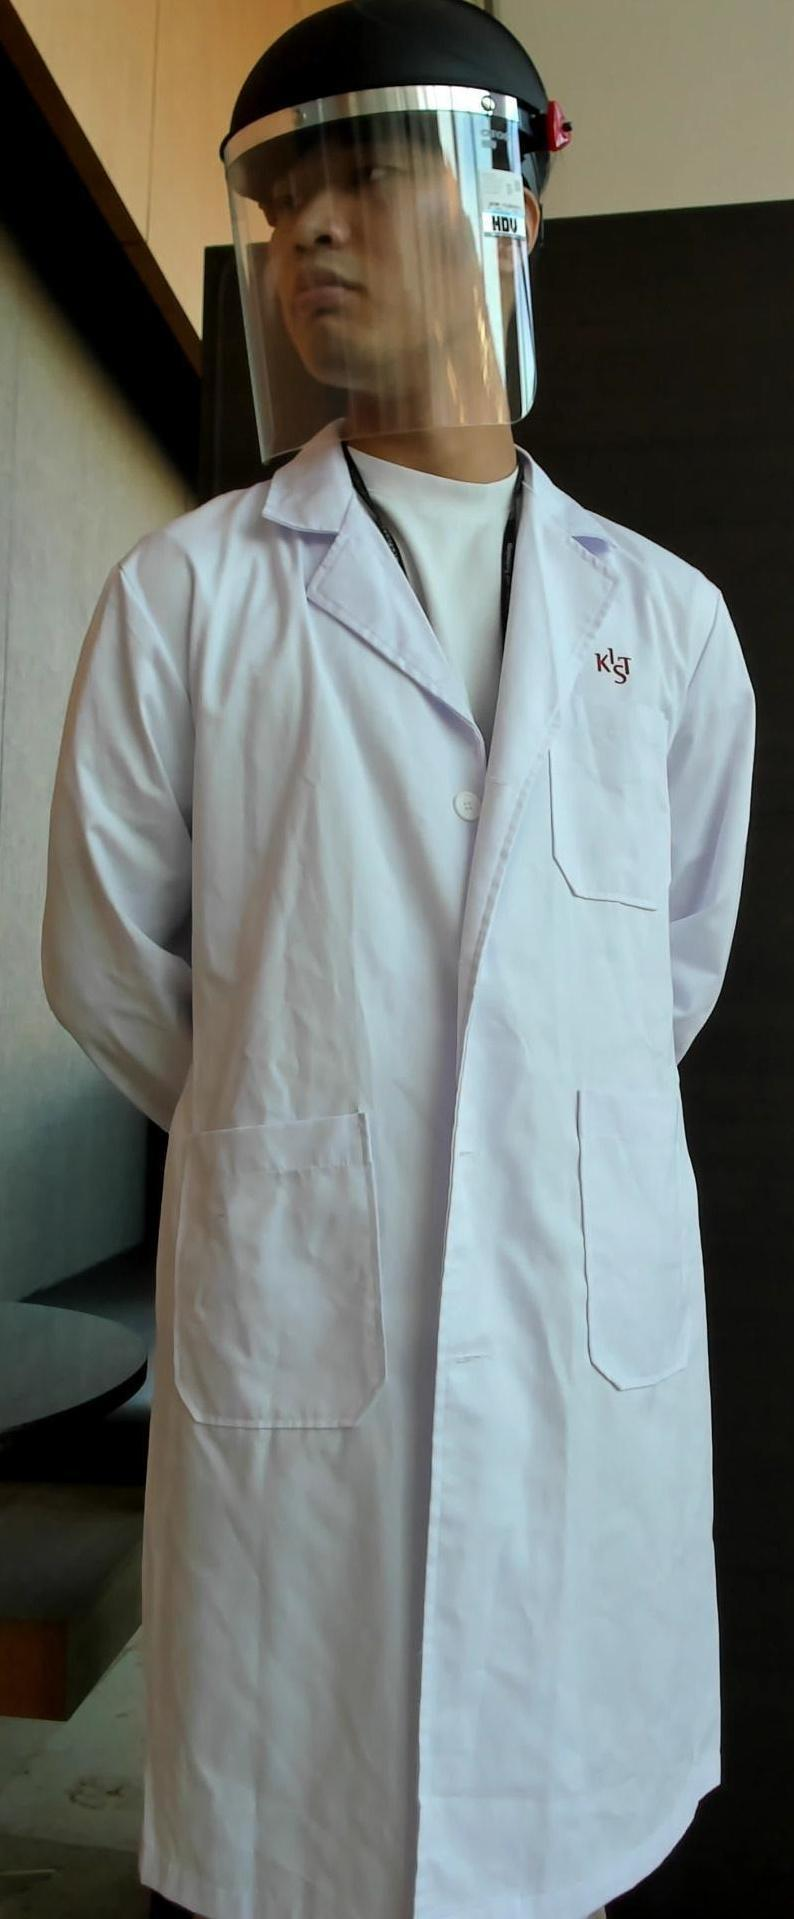lab_coat: (44, 483, 723, 1919)
